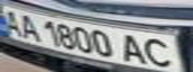0: (90, 28, 118, 58), (72, 25, 93, 54)
1: (36, 17, 60, 46)
8: (54, 21, 75, 51)
A: (118, 32, 151, 65), (0, 6, 27, 37), (15, 12, 42, 41)
C: (139, 35, 181, 70)
